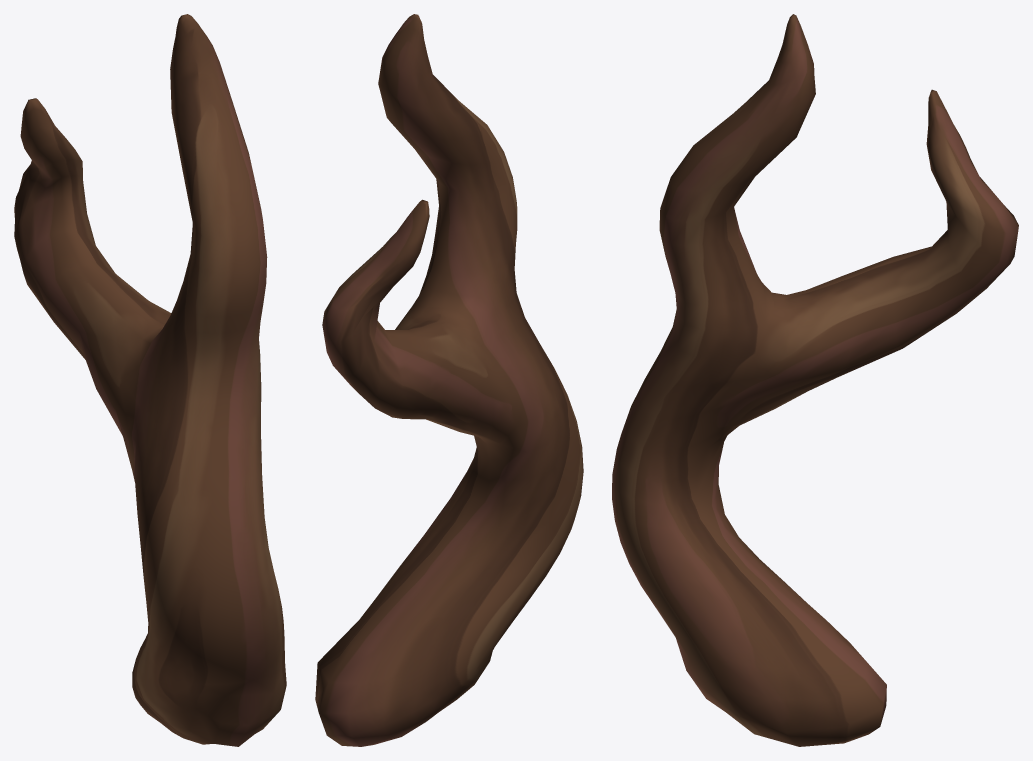
The model's file is AngelBranch1.fbx.
3 renders of one model, left to right at view 1: azimuth 30°, elevation 25°; view 2: azimuth 150°, elevation 25°; view 3: azimuth 270°, elevation 25°, orthographic. The views are drawn at different scales.
Parts seen in each view (by area): view 1: AngelBranch1; view 2: AngelBranch1; view 3: AngelBranch1.
Boxes of the visible parts, x1,y1,x2,y2 form: AngelBranch1: [14, 14, 286, 746]; AngelBranch1: [315, 14, 583, 746]; AngelBranch1: [612, 14, 1018, 746].
Bounding box in the file's own units: 115 × 437 × 228.
1 material, 1 textured.
